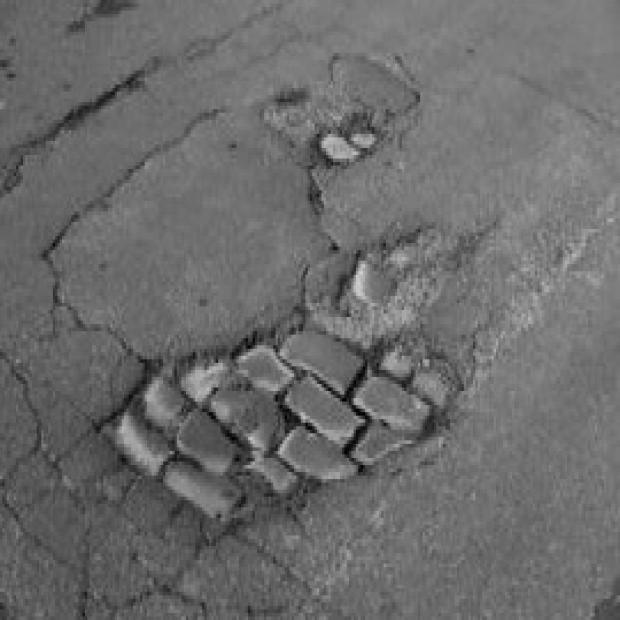lubang: (115, 194, 618, 535), (0, 56, 170, 176), (317, 109, 390, 162)
